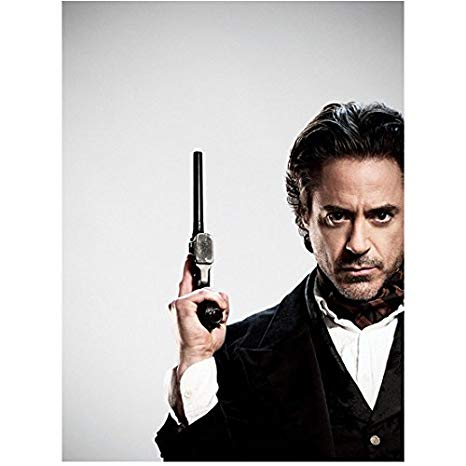pistol: (148, 138, 249, 372)
